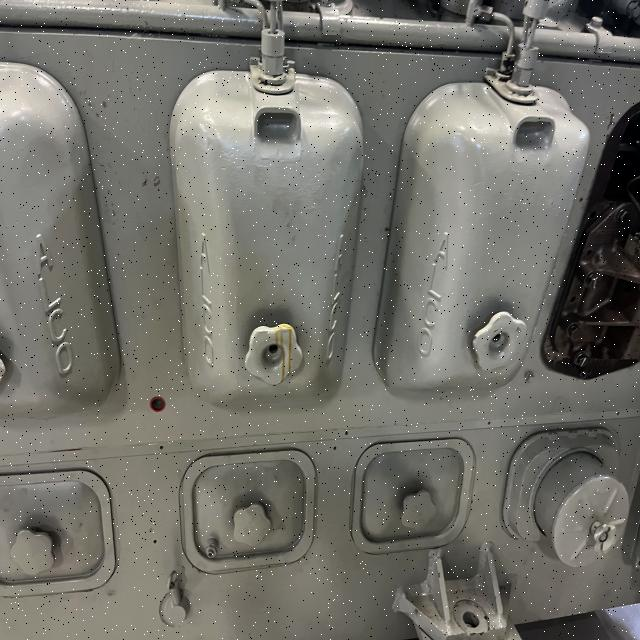Oil Leak: (273, 324, 293, 384)
